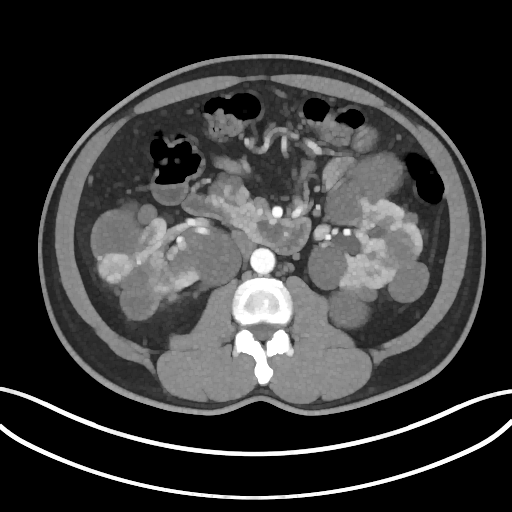Lesion: (91, 248, 135, 285)
